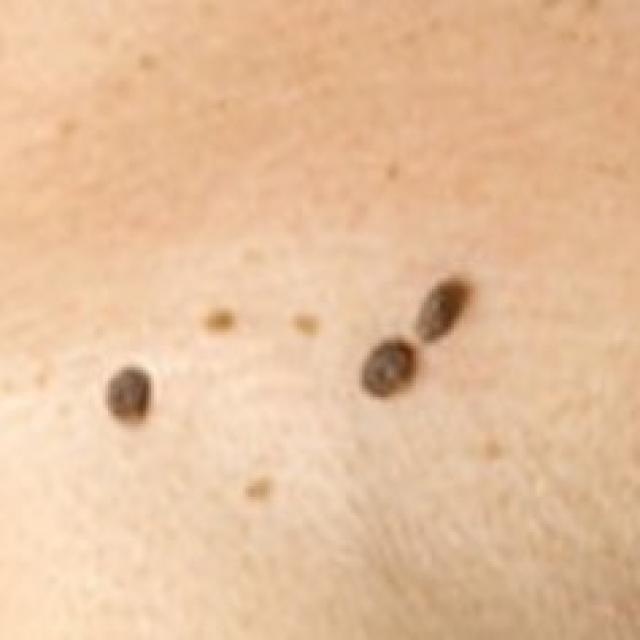wart: (354, 335, 416, 400), (416, 275, 472, 343), (102, 362, 154, 424)
